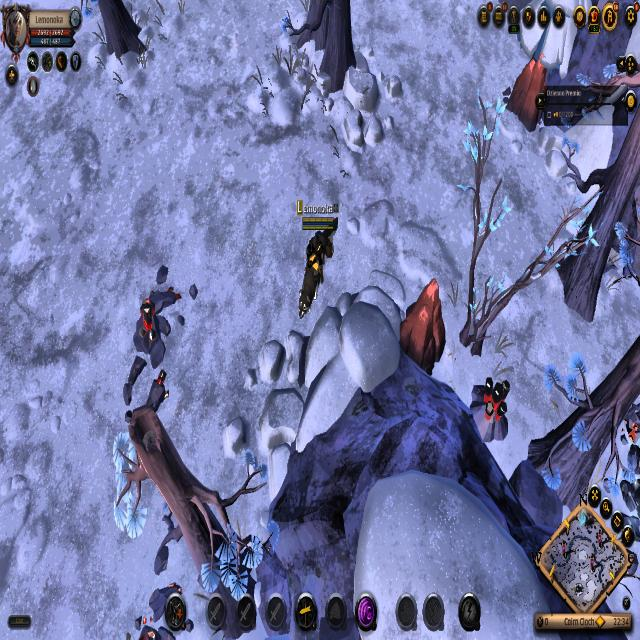ore tier 5: (467, 372, 512, 450)
rock tier 5: (397, 275, 447, 378)
